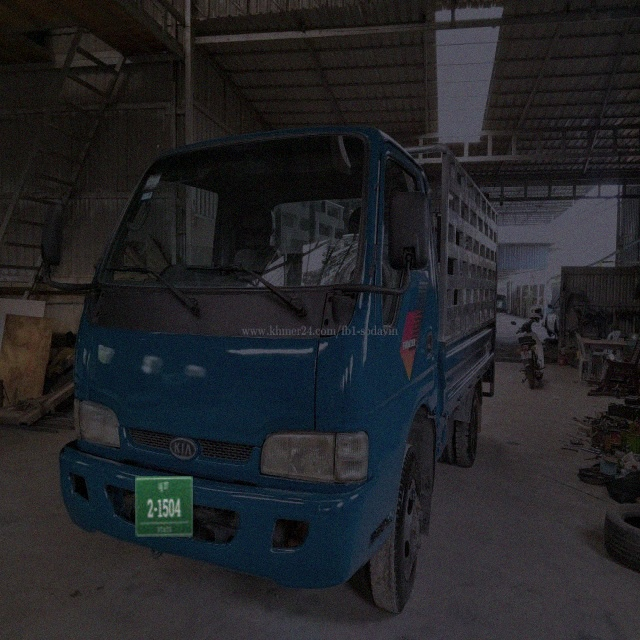Plate Number: (135, 476, 193, 537)
